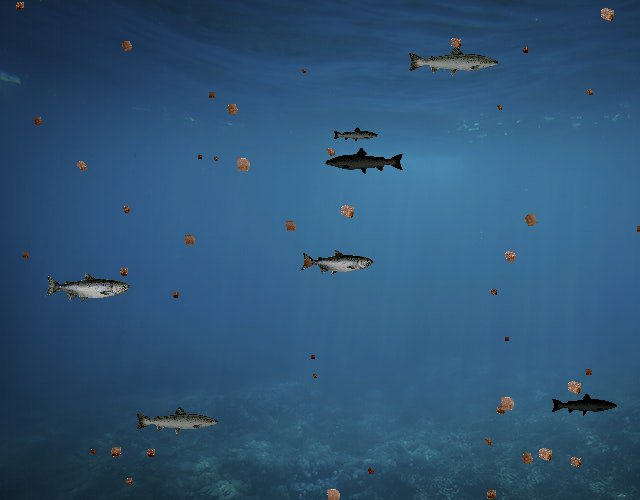Fish: (407, 44, 501, 78), (134, 405, 220, 436), (44, 272, 130, 303), (325, 146, 406, 176), (301, 249, 374, 275), (550, 392, 618, 417), (332, 127, 379, 144)
Pellet: (518, 207, 544, 233), (498, 244, 523, 269), (70, 155, 92, 177), (486, 285, 501, 299), (518, 43, 532, 57), (210, 154, 220, 164)
